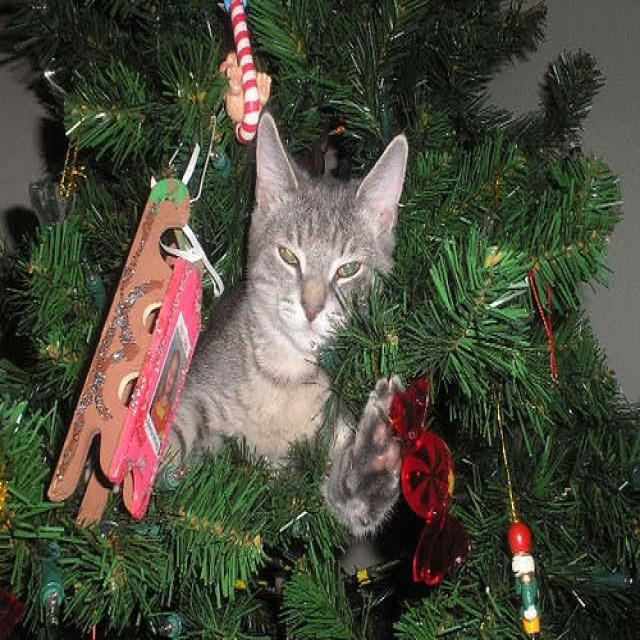cat: (158, 116, 408, 529)
